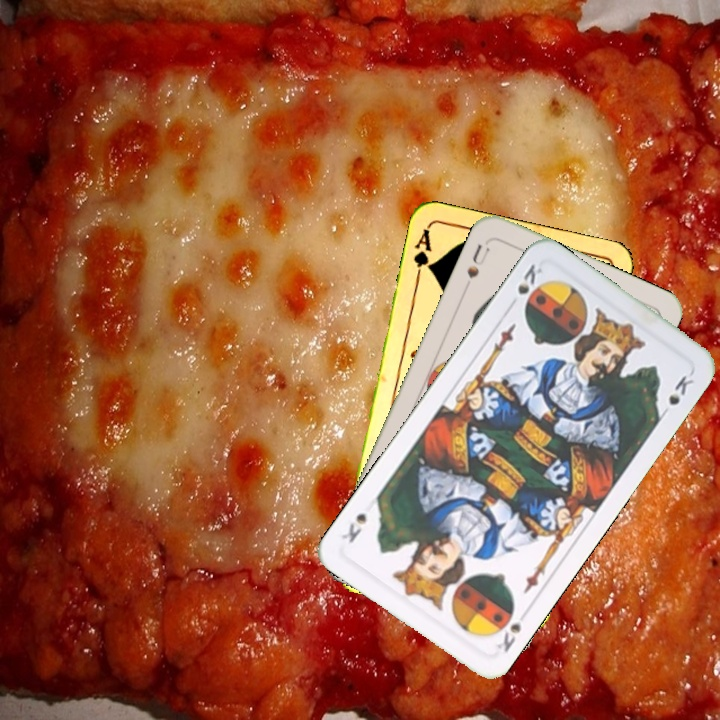GA: (409, 224, 435, 283)
SK: (488, 601, 524, 655), (513, 259, 545, 308)
SU: (460, 240, 493, 292)
